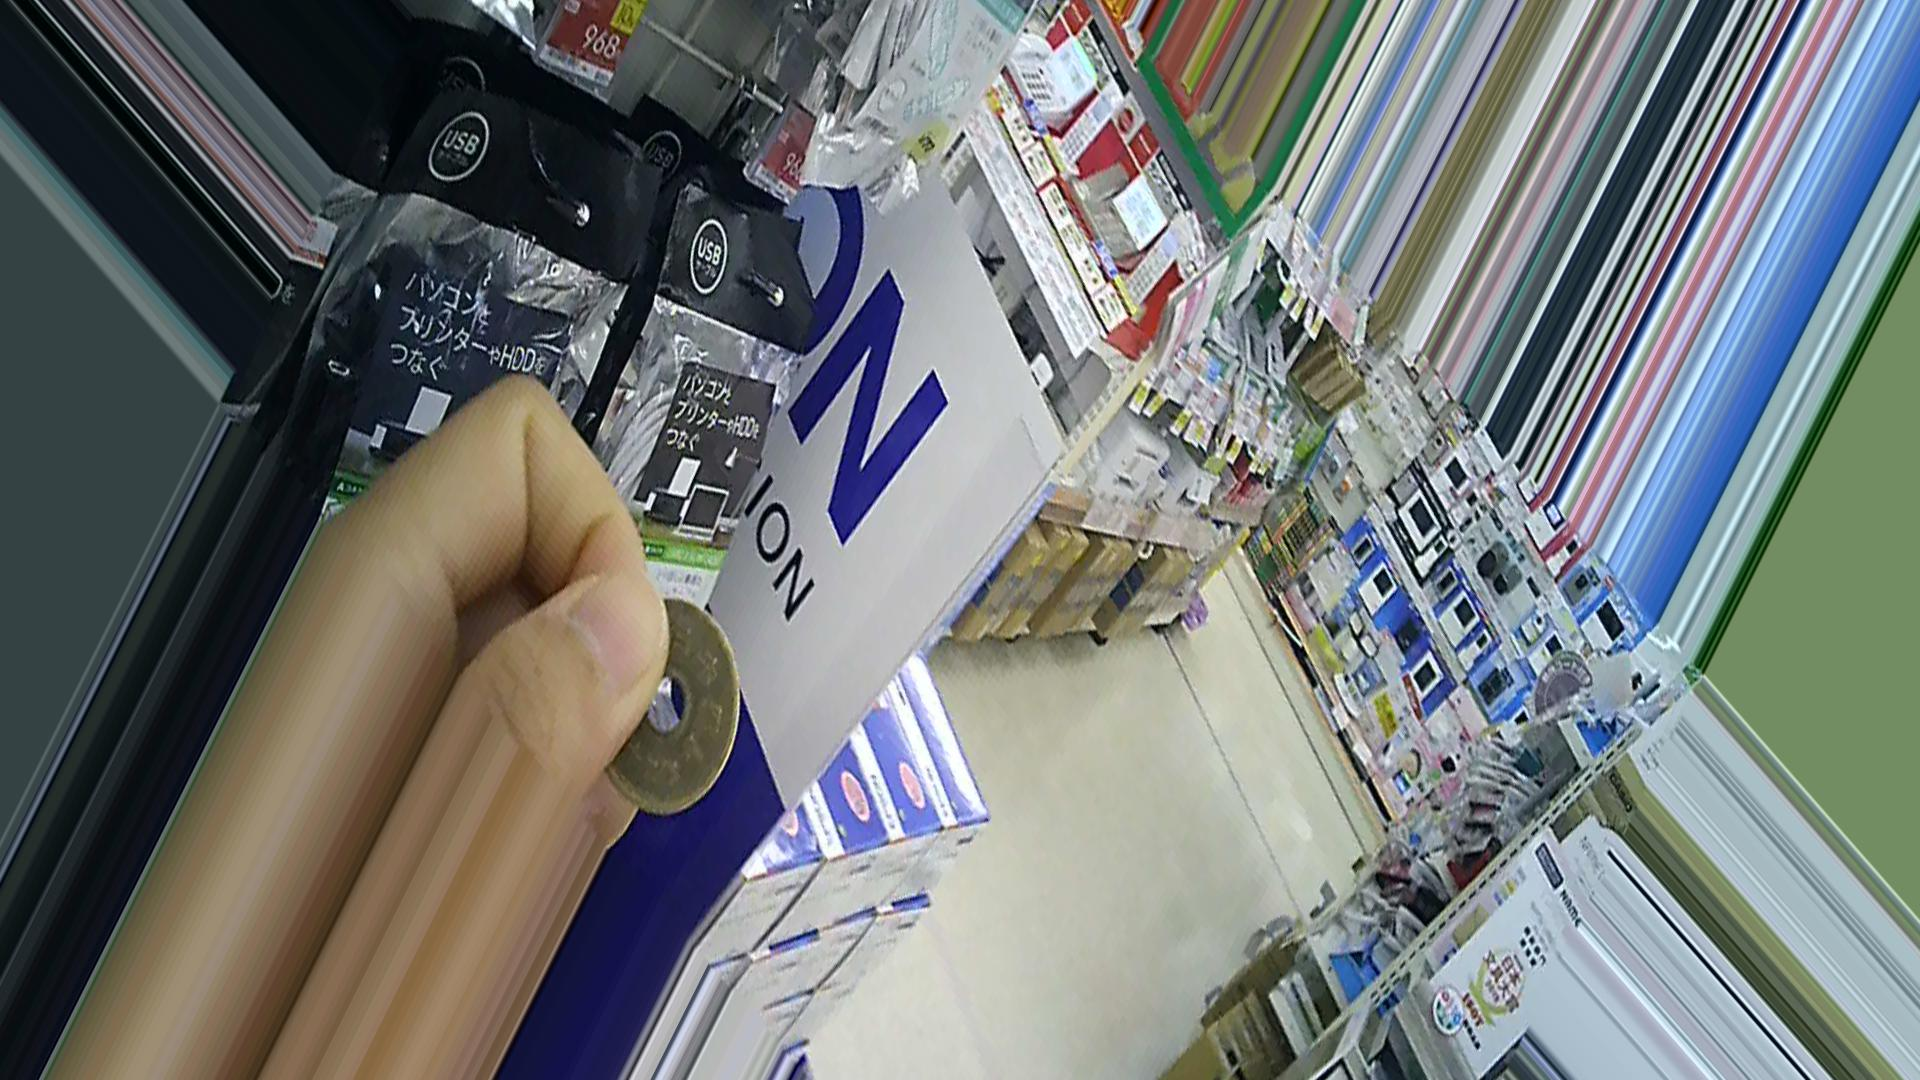5 Yen: (579, 595, 752, 807)
